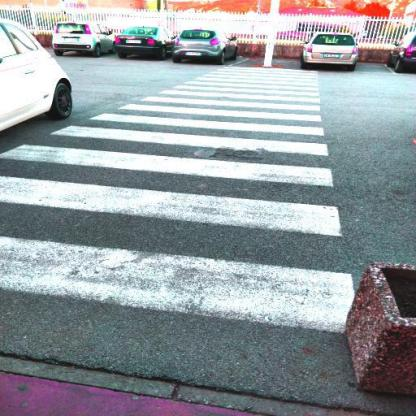crosswalk: (0, 172, 364, 343), (86, 100, 328, 140)
